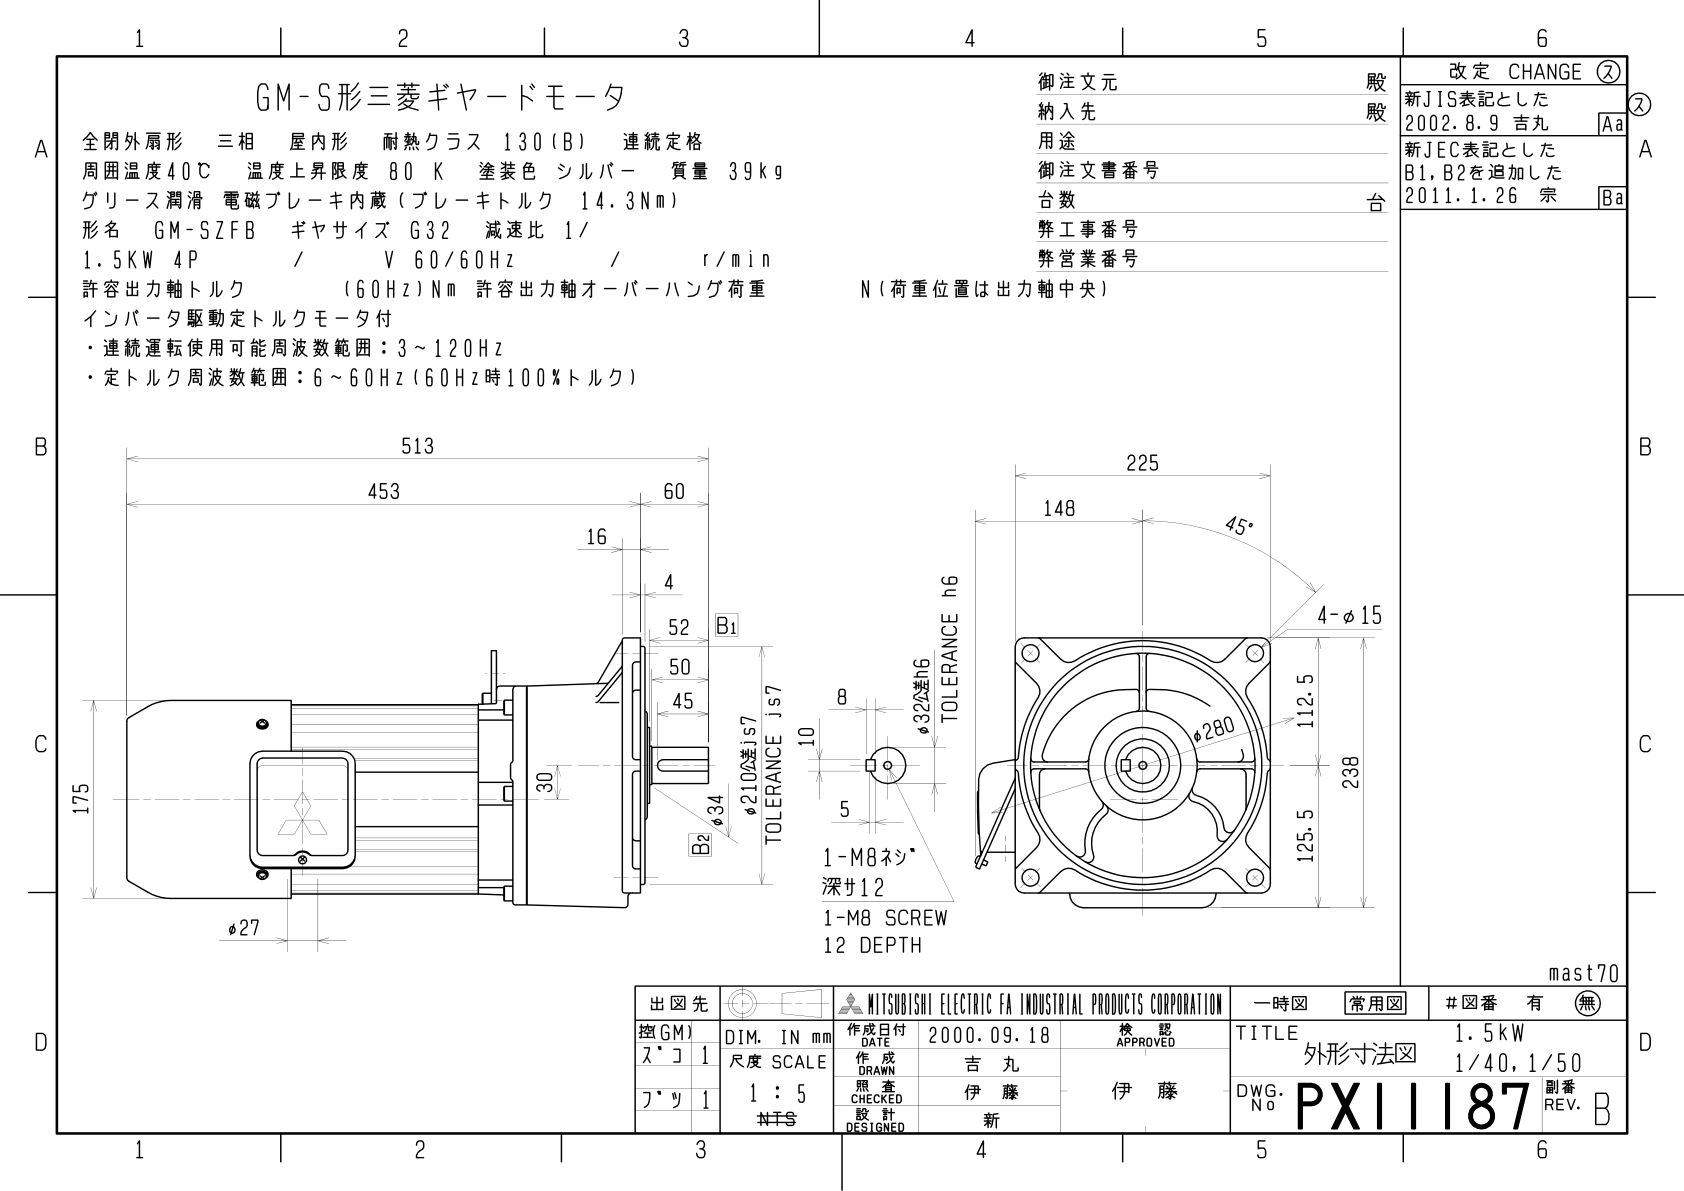GM_S_インバタ屋内＿三相_フランジ: (15, 6, 1684, 1191)
